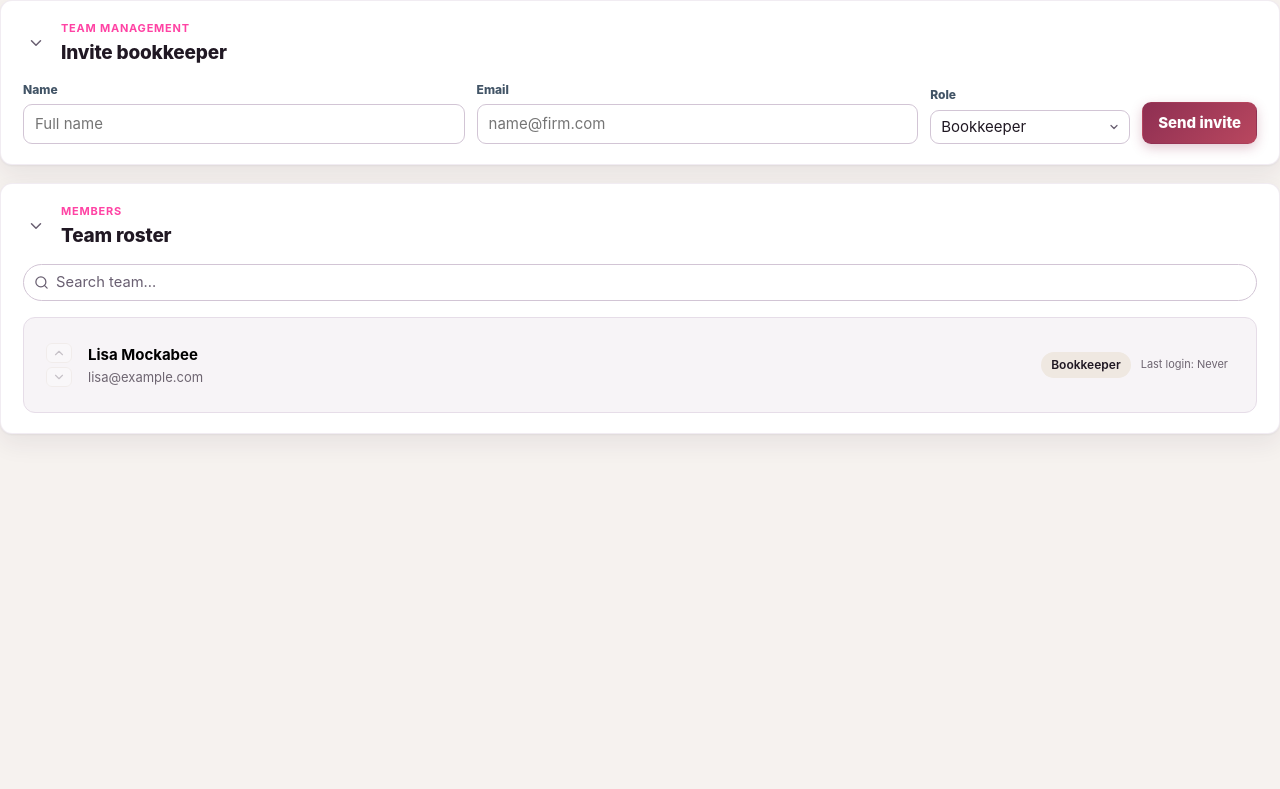
Test case: Team page rate history › names the migration’s 1970-01-01 cost row "Since the start"
Click the button with class "team-card-header" at (143, 354), box top-left (72, 330), bottom-right (1244, 400)
(page scrolled)
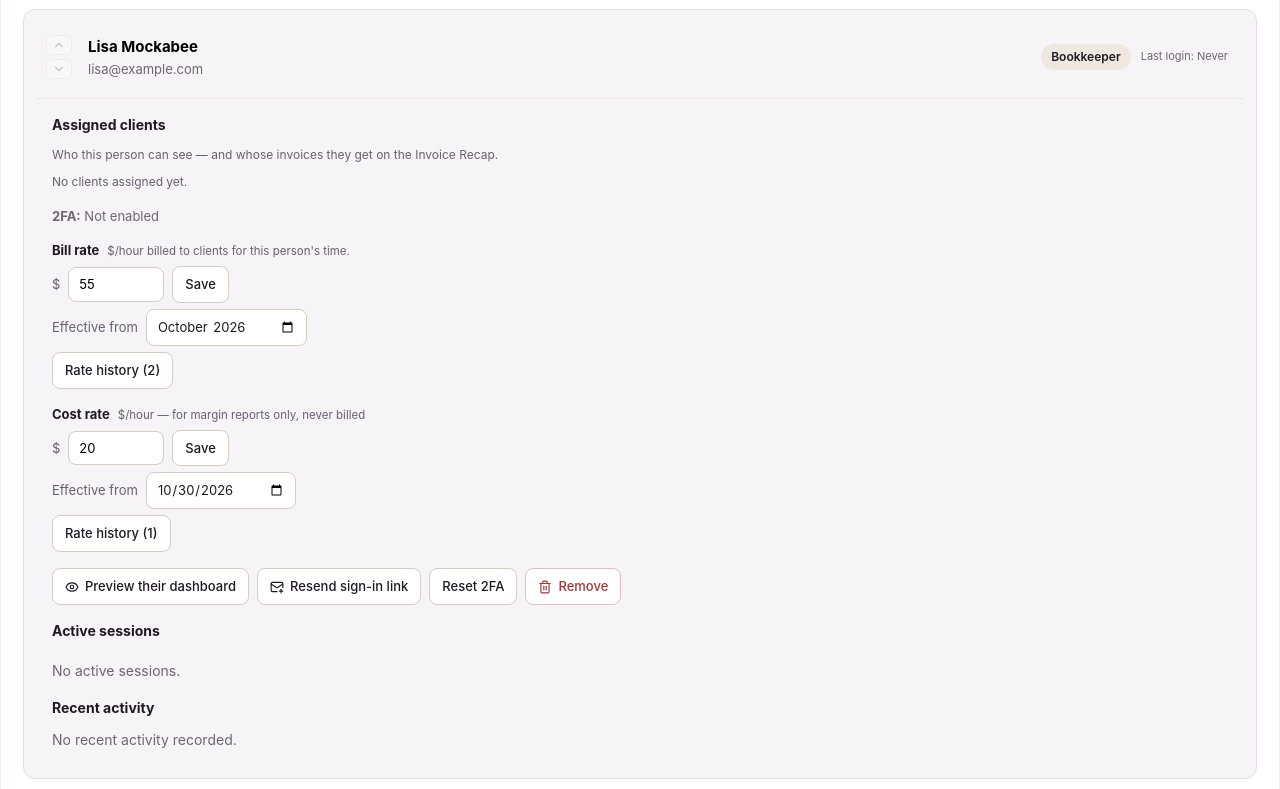
Check: the text "Bill rate" is shown, box top-left (52, 241), bottom-right (99, 260)
Click the button "Rate history (1)" at (111, 534), box top-left (52, 515), bottom-right (171, 552)
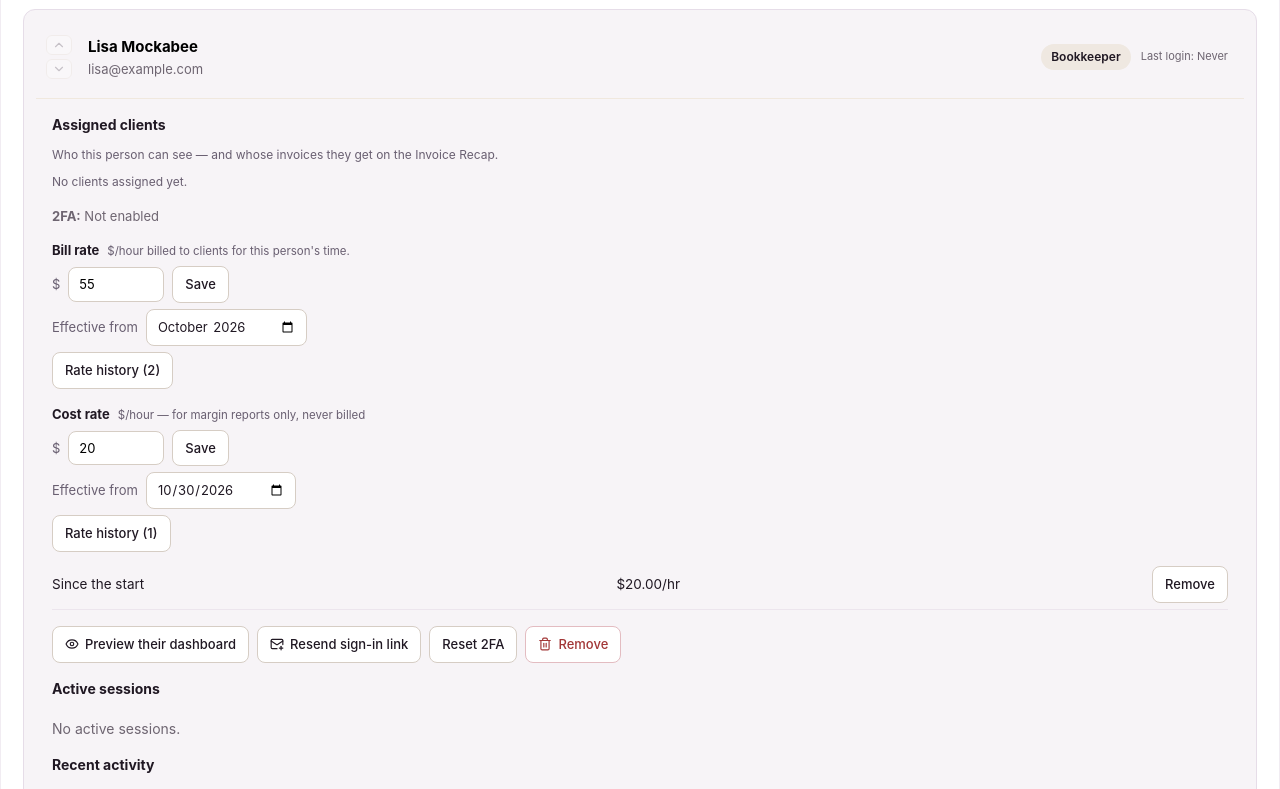
Check: the text "Since the start" is shown, box top-left (52, 575), bottom-right (144, 594)
